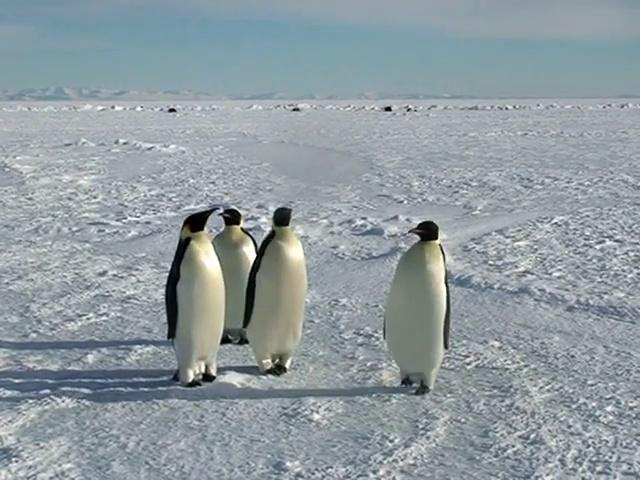animal: (383, 220, 449, 393)
